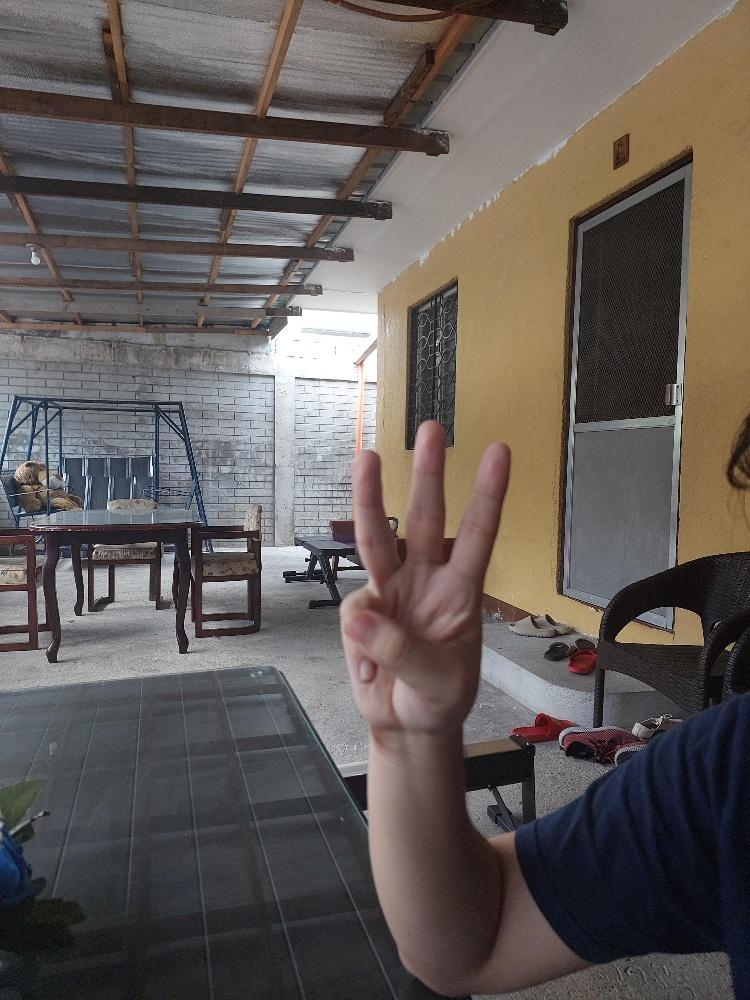w: (337, 414, 513, 737)
